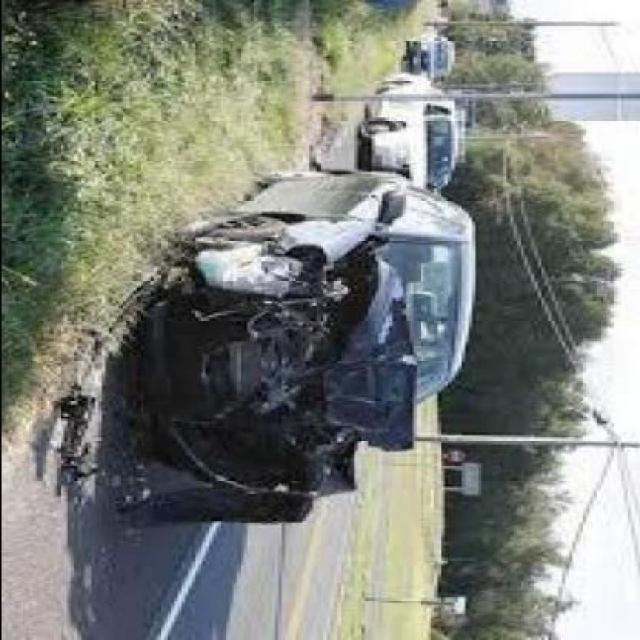damage: (115, 222, 407, 527)
